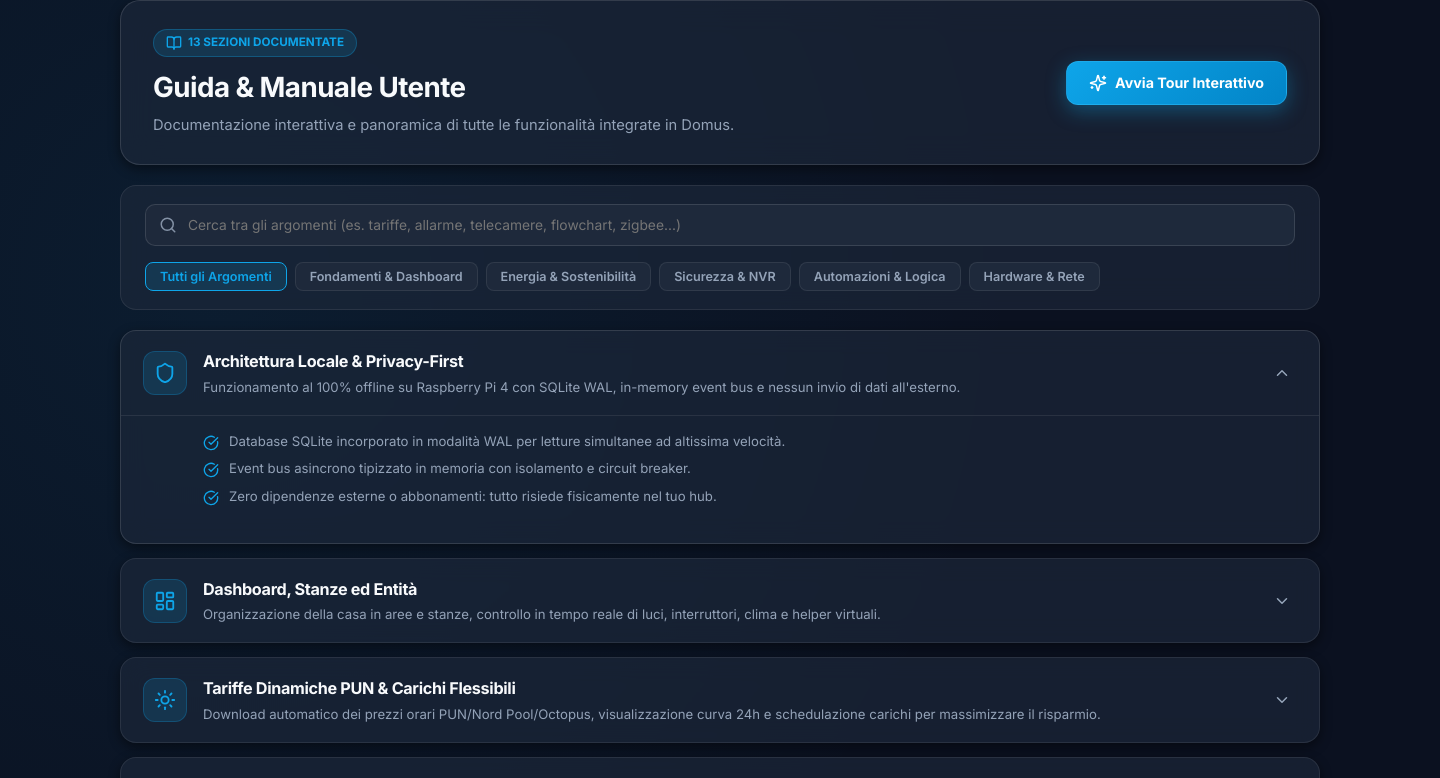
Test: GuideView.vue › filters topics by search query
Expected: the element with class "topic-card" that starts with "Architettura Locale & Privacy-First" is shown, [120,330,1320,544]
Replace the text in the search field with class "search-input" with "nonexistent_random_xyz": (720, 225) [145,204,1295,246]
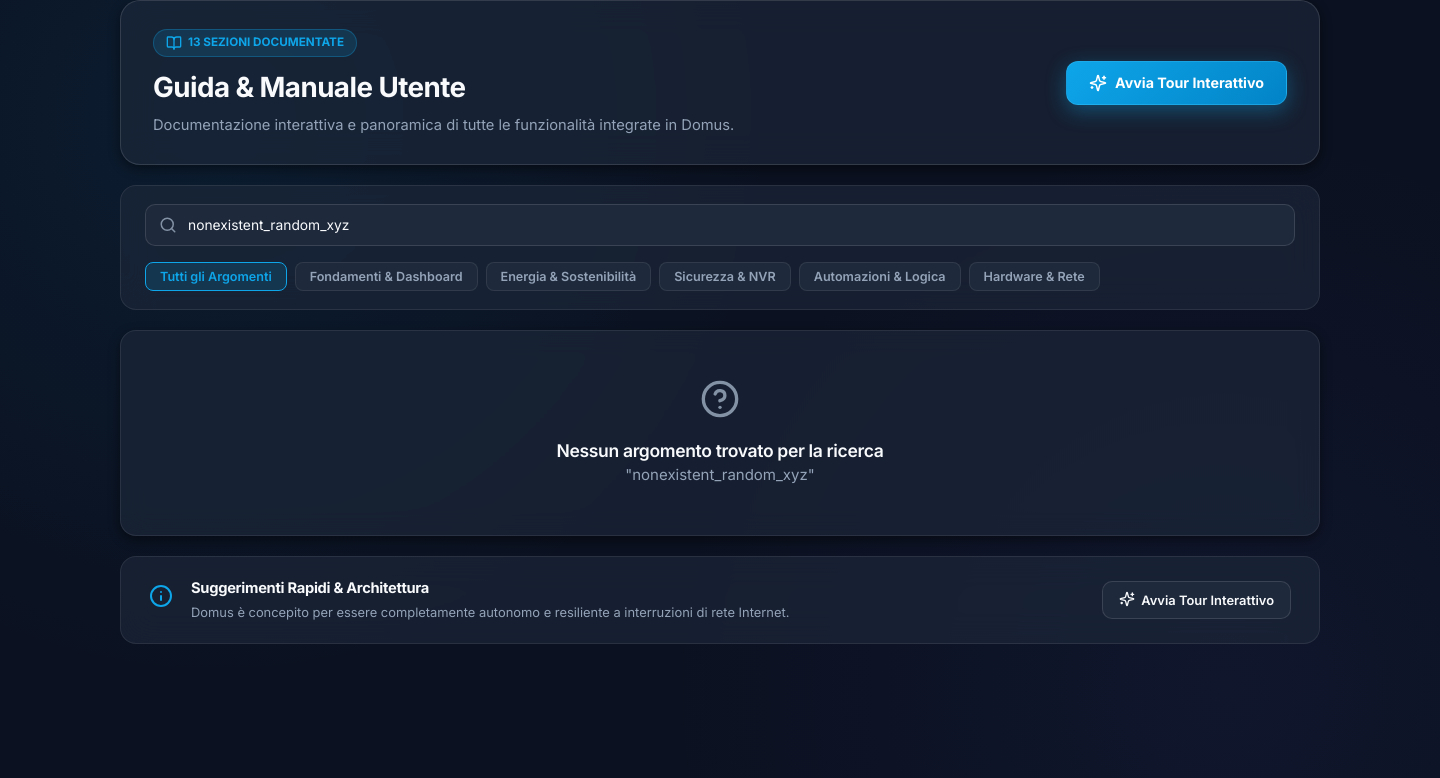
Expected: no elements with class "topic-card" are shown
Expected: the element with class "empty-state" is shown, [120,330,1320,536]
